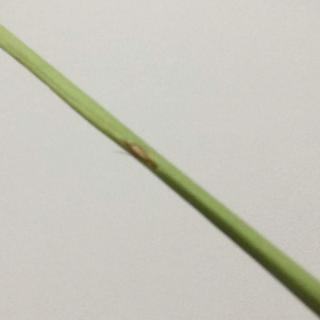Blast: (107, 127, 172, 186)
